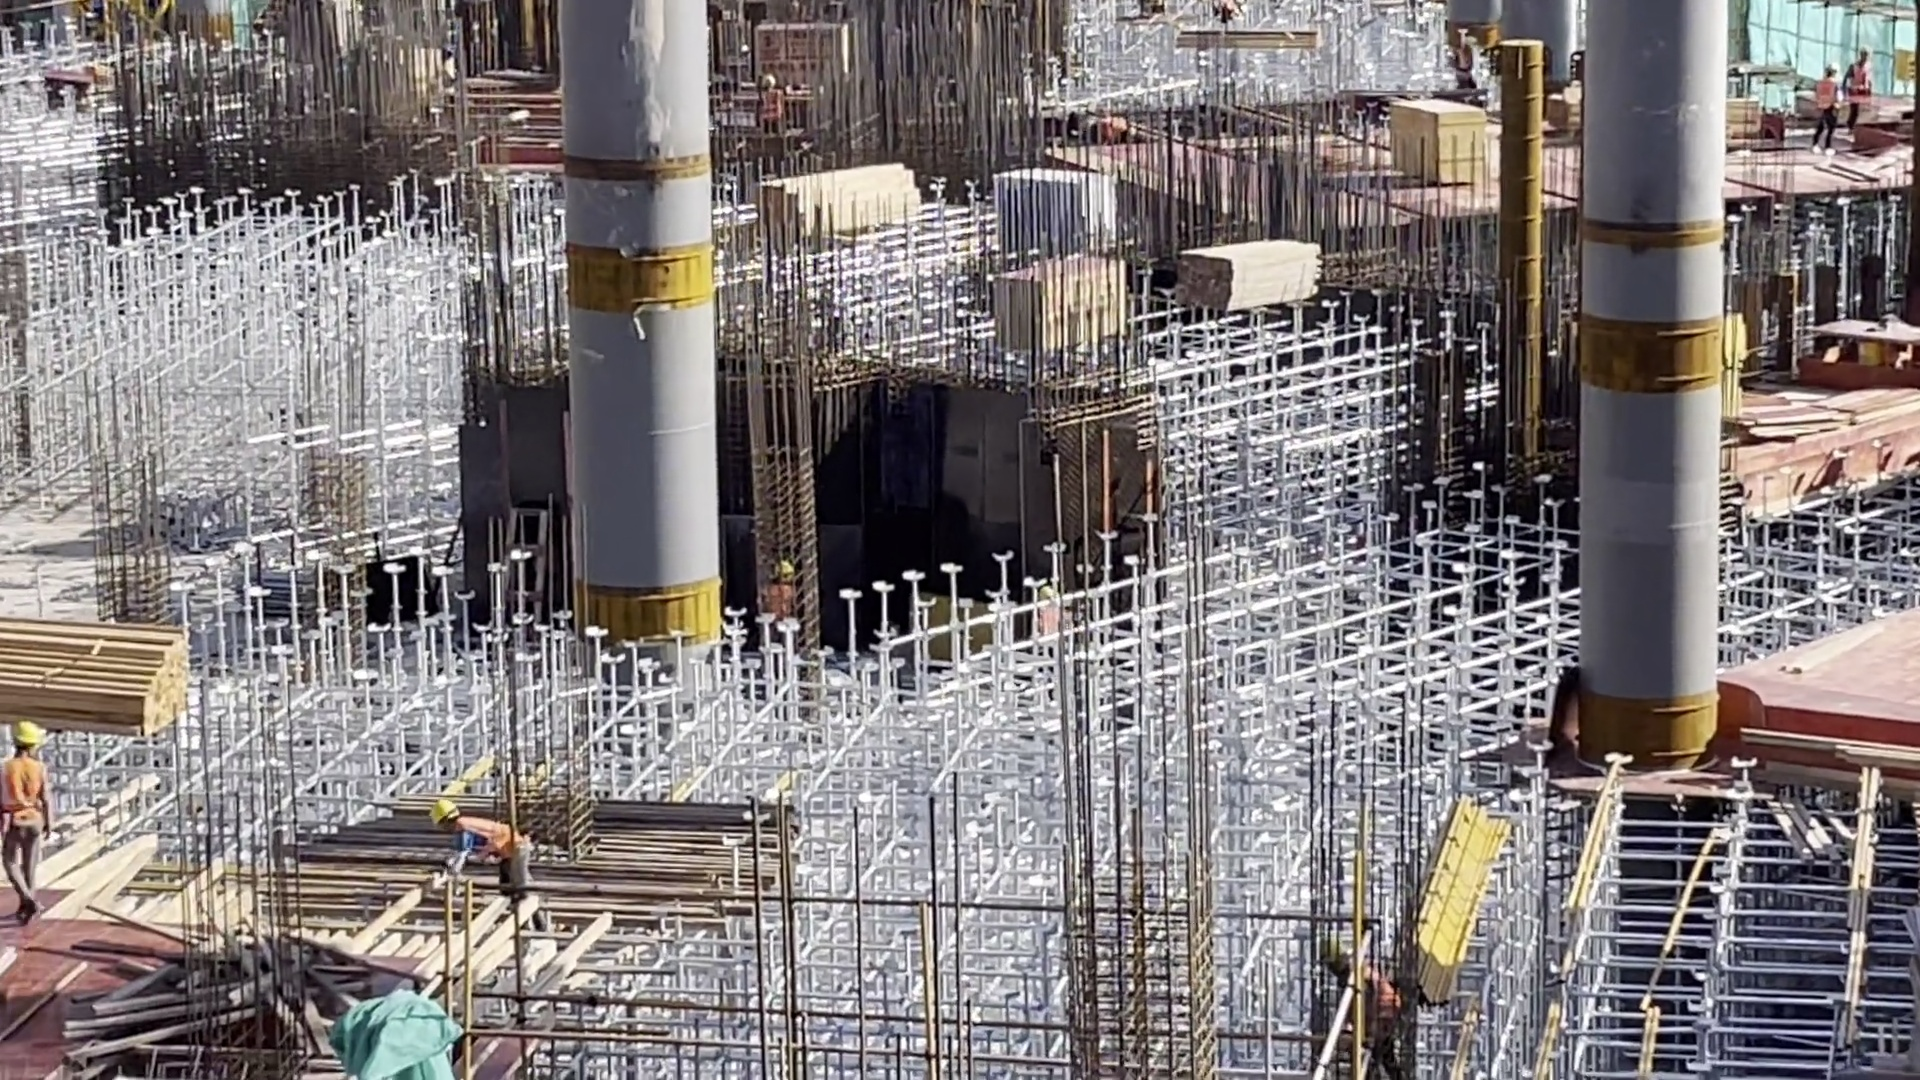helmet: (10, 716, 47, 760), (426, 790, 451, 833), (759, 73, 779, 96), (1824, 56, 1840, 80), (1851, 43, 1869, 62)
person: (1, 722, 52, 926), (429, 796, 533, 891), (1813, 62, 1838, 156), (1847, 51, 1874, 133), (753, 71, 786, 133)
vest: (1, 767, 42, 868), (457, 813, 513, 873), (1849, 66, 1874, 104), (1818, 79, 1838, 117), (759, 92, 781, 126)
